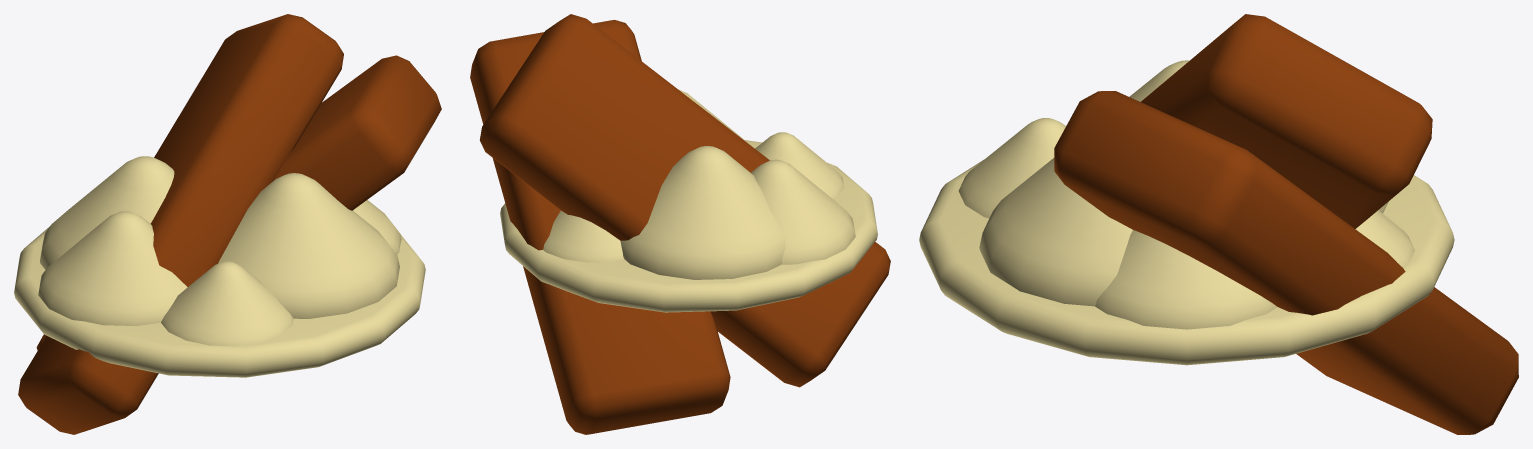
The model's file is LastLuna_Model_Node_Sand_Planks.fbx.
3 views of the same model, side by side, from view 1: azimuth 30°, elevation 25°; view 2: azimuth 150°, elevation 25°; view 3: azimuth 270°, elevation 25° (orthographic). The views are drawn at different scales.
Parts seen in each view (by area): view 1: Planks001, SandFloor001, Dirt_Floor004, Dirt_Floor001, Dirt_Floor006, Dirt_Floor003, Dirt_Floor002; view 2: Planks001, Dirt_Floor003, SandFloor001, Dirt_Floor001, Dirt_Floor005, Dirt_Floor006; view 3: Planks001, SandFloor001, Dirt_Floor004, Dirt_Floor002, Dirt_Floor006, Dirt_Floor005, Dirt_Floor001.
Part boxes in pixels (x1,y1,x2,y2): Planks001: [18, 14, 441, 434]; SandFloor001: [14, 226, 425, 377]; Dirt_Floor004: [218, 173, 399, 318]; Dirt_Floor001: [38, 211, 187, 325]; Dirt_Floor006: [161, 261, 293, 346]; Dirt_Floor003: [40, 156, 174, 269]; Dirt_Floor002: [353, 200, 401, 254]; Planks001: [470, 14, 890, 434]; Dirt_Floor003: [620, 146, 785, 279]; SandFloor001: [500, 140, 877, 312]; Dirt_Floor001: [751, 159, 855, 264]; Dirt_Floor005: [543, 211, 623, 262]; Dirt_Floor006: [755, 132, 844, 198]; Planks001: [1054, 14, 1518, 434]; SandFloor001: [919, 160, 1454, 365]; Dirt_Floor004: [979, 158, 1132, 306]; Dirt_Floor002: [1095, 230, 1277, 329]; Dirt_Floor006: [958, 118, 1065, 218]; Dirt_Floor005: [1355, 210, 1414, 267]; Dirt_Floor001: [1129, 60, 1189, 101].
Size of the model in its own units: 42.71 by 36.78 by 41.89.
